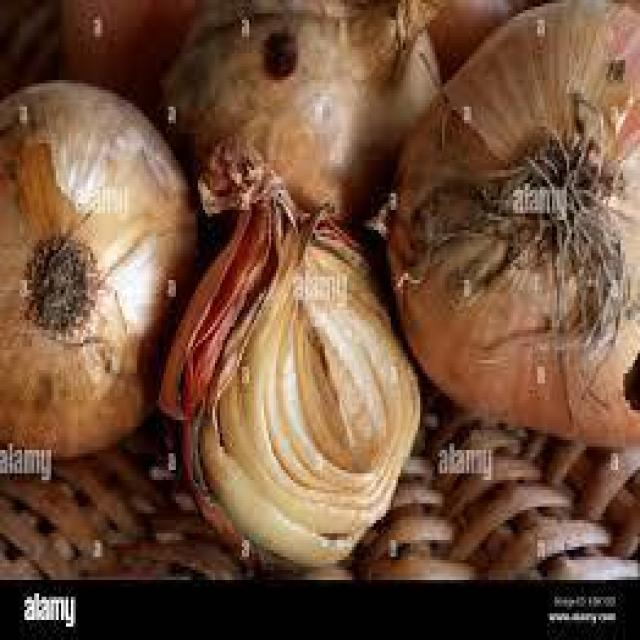Onion: (388, 0, 640, 450), (171, 144, 420, 574), (0, 80, 195, 456), (159, 0, 442, 247)
